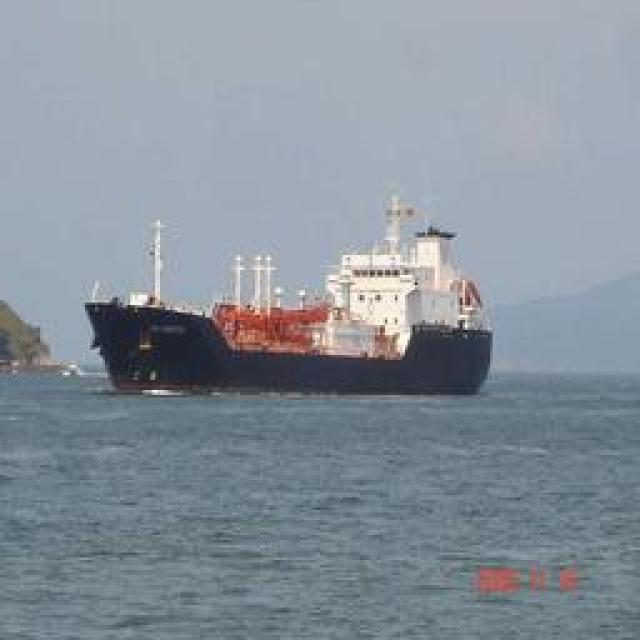ship2: (83, 195, 494, 396)
